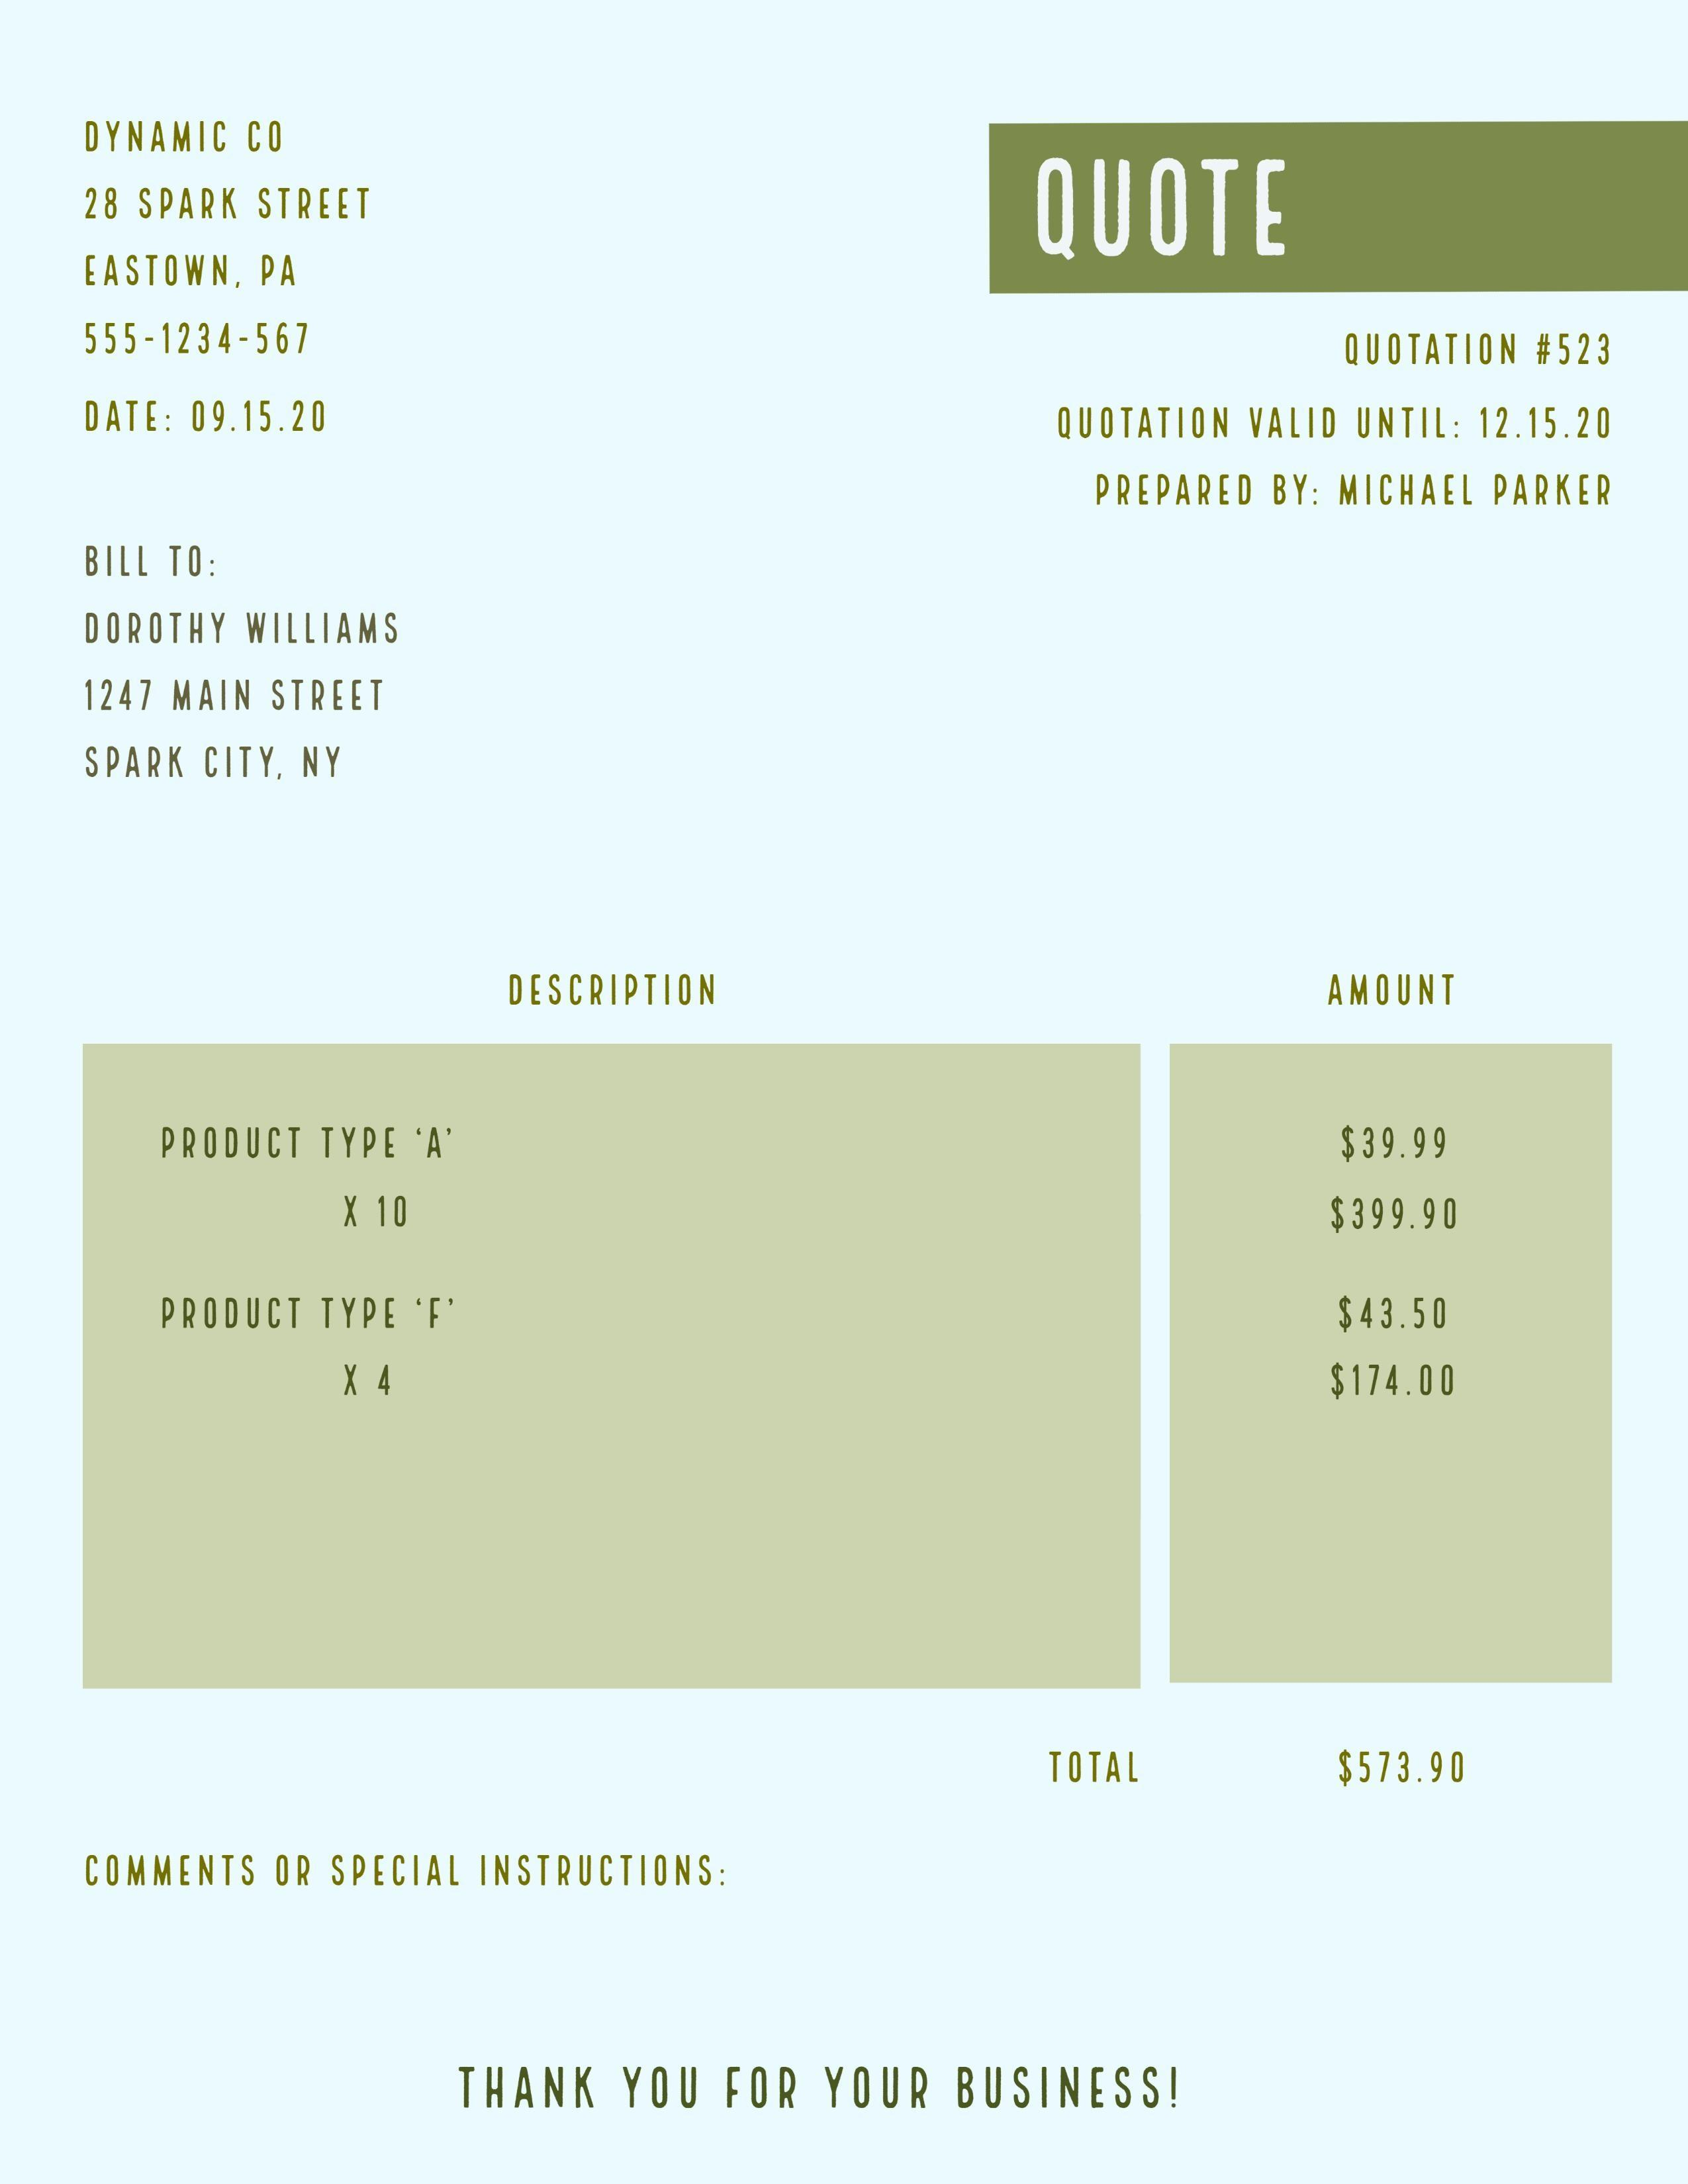ROI: (124, 1063, 1546, 1424), (64, 75, 579, 451), (1033, 303, 1626, 528), (67, 528, 449, 804), (1012, 1729, 1502, 1813)
